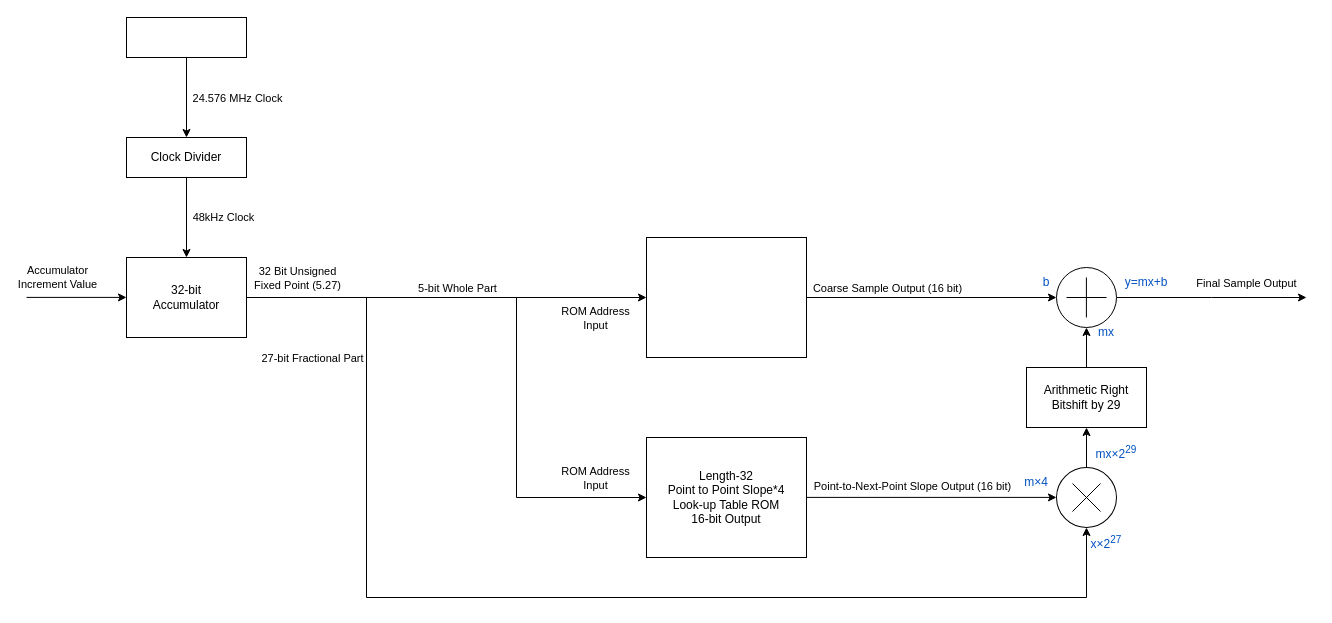
Some shapes in this 1332 by 623 pixel diagram are drawn without their labels. Here are the shapes that lost their labels. From the top down, the box of each, then its label:
(126, 16, 246, 58): Main System Clock (24.576 MHz)
(646, 236, 806, 358): Length-32 Waveform Look-up Table ROM 16-bit Sample Output
